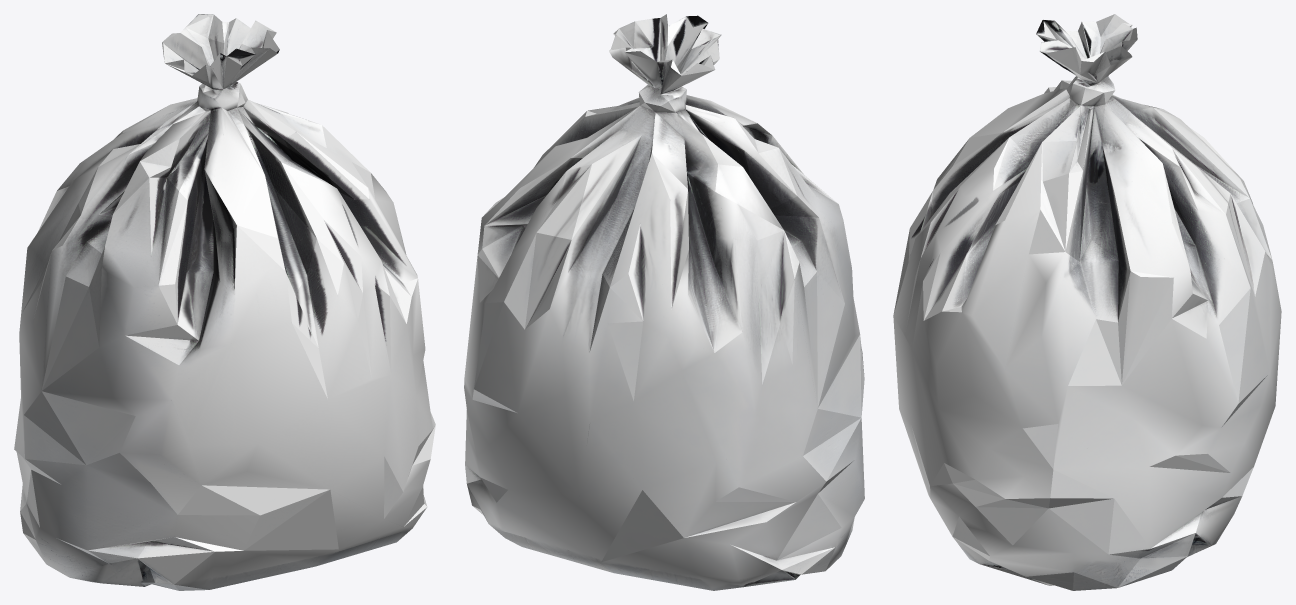
Rendered from IT_Trash_TiedTrashBag.fbx.
3 views of the same model, side by side, from view 1: azimuth 30°, elevation 25°; view 2: azimuth 150°, elevation 25°; view 3: azimuth 270°, elevation 25° (orthographic). The views are drawn at different scales.
Visible parts, largest first — view 1: Mesh_0; view 2: Mesh_0; view 3: Mesh_0.
Boxes of the visible parts, box(x1,y1,x2,y2) form: Mesh_0: box(14, 14, 435, 590); Mesh_0: box(464, 14, 864, 590); Mesh_0: box(893, 14, 1281, 590).
Size of the model in its own units: 143 by 189 by 137.
1 material, 1 textured.
